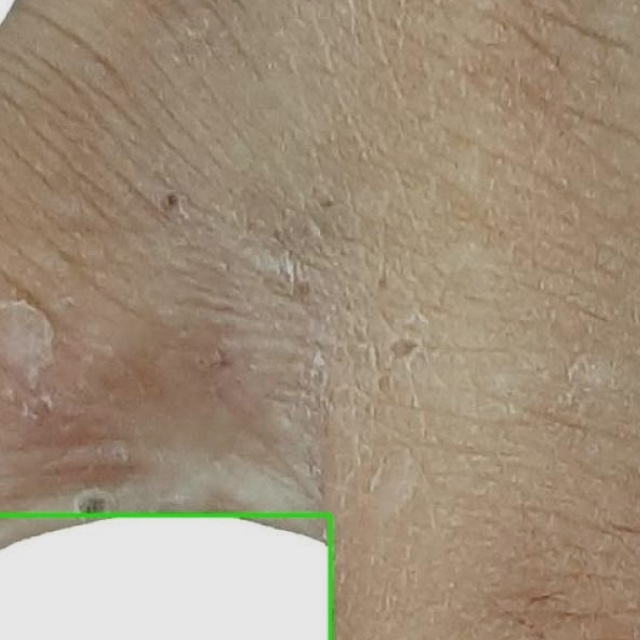Scabies: (0, 515, 330, 639)
